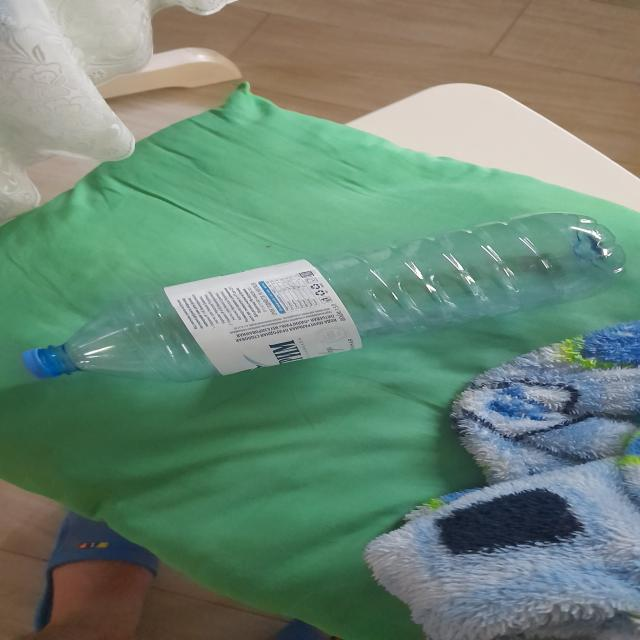empty: (23, 212, 624, 382)
